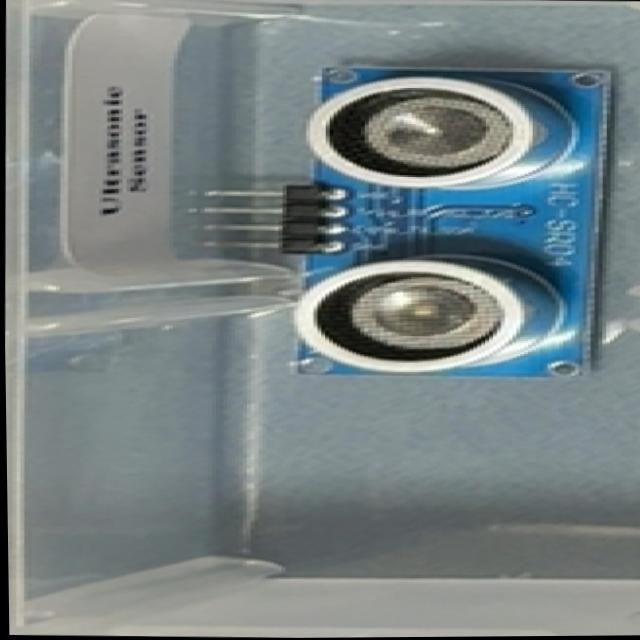Ultrasonic Sensor: (191, 53, 602, 382)
